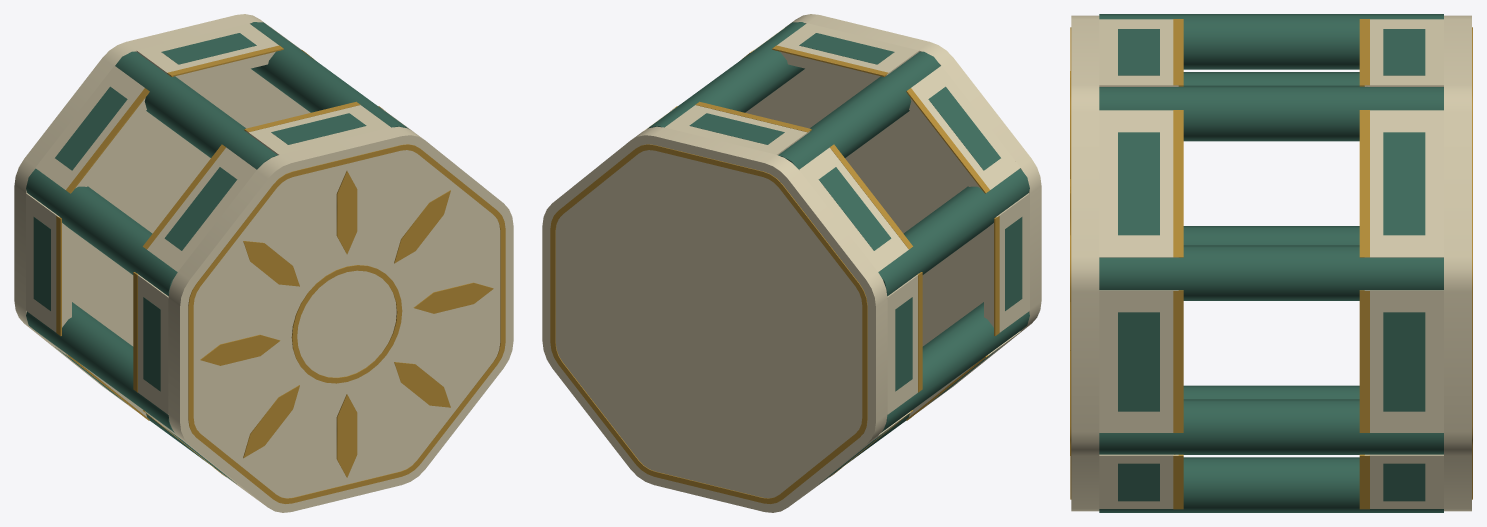
The model's file is h12_housing.obj.
3 renders of one model, left to right at view 1: azimuth 30°, elevation 25°; view 2: azimuth 150°, elevation 25°; view 3: azimuth 270°, elevation 25°, orthographic. The views are drawn at different scales.
Parts seen in each view (by area): view 1: h12_housing; view 2: h12_housing; view 3: h12_housing.
Boxes of the visible parts, <box> form: h12_housing: <box>14,14,513,512</box>; h12_housing: <box>542,14,1041,512</box>; h12_housing: <box>1070,14,1472,512</box>.
Bounding box in the file's own units: 3.18 × 3.18 × 2.74.
